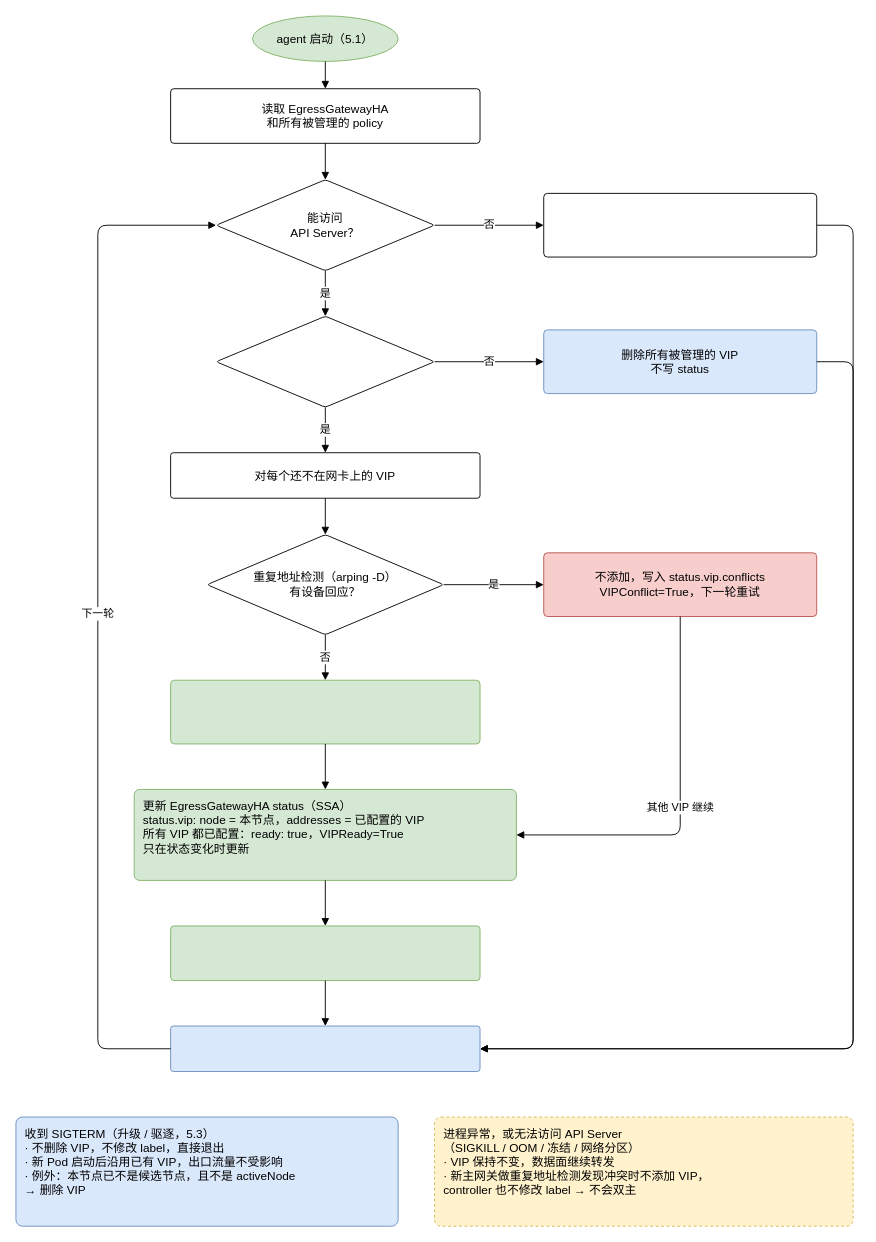
This 876x1242 diagram has some shape labels left out. The box of each missing label's shape, as (x1, y1, x2, y2) in pixels:
garpInterval > 0 时周期发送 GARP: (170, 925, 480, 981)
保持网卡现状不变 已有 VIP 继续保留: (543, 192, 817, 257)
本节点是 spec.activeNode？: (215, 315, 435, 407)
添加 VIP/32 + GARP patch 本节点 CiliumNode annotation: (170, 679, 480, 744)
等待 watch 事件，或每 reconcileInterval（10s）: (170, 1025, 480, 1072)
